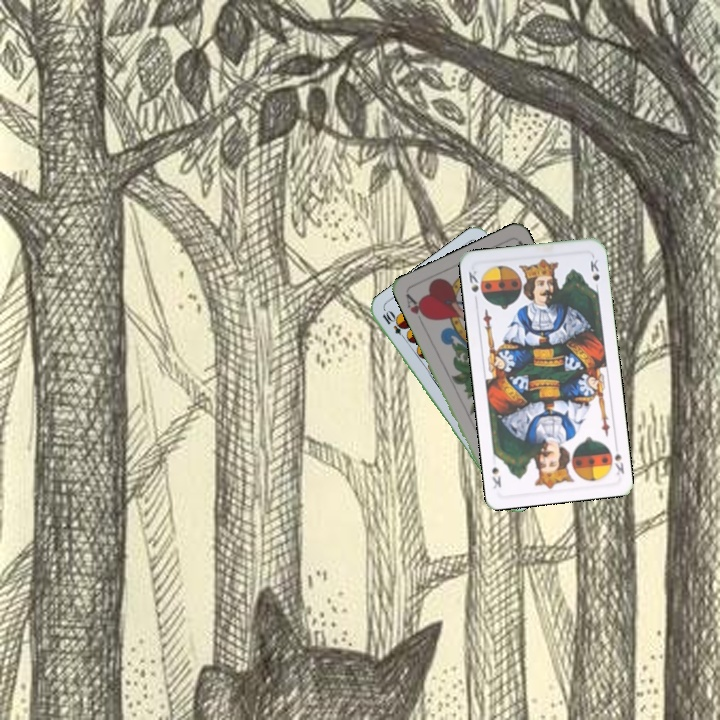E10: (378, 307, 410, 343)
HA: (402, 290, 431, 323)
SK: (604, 439, 627, 477), (465, 266, 481, 306)
